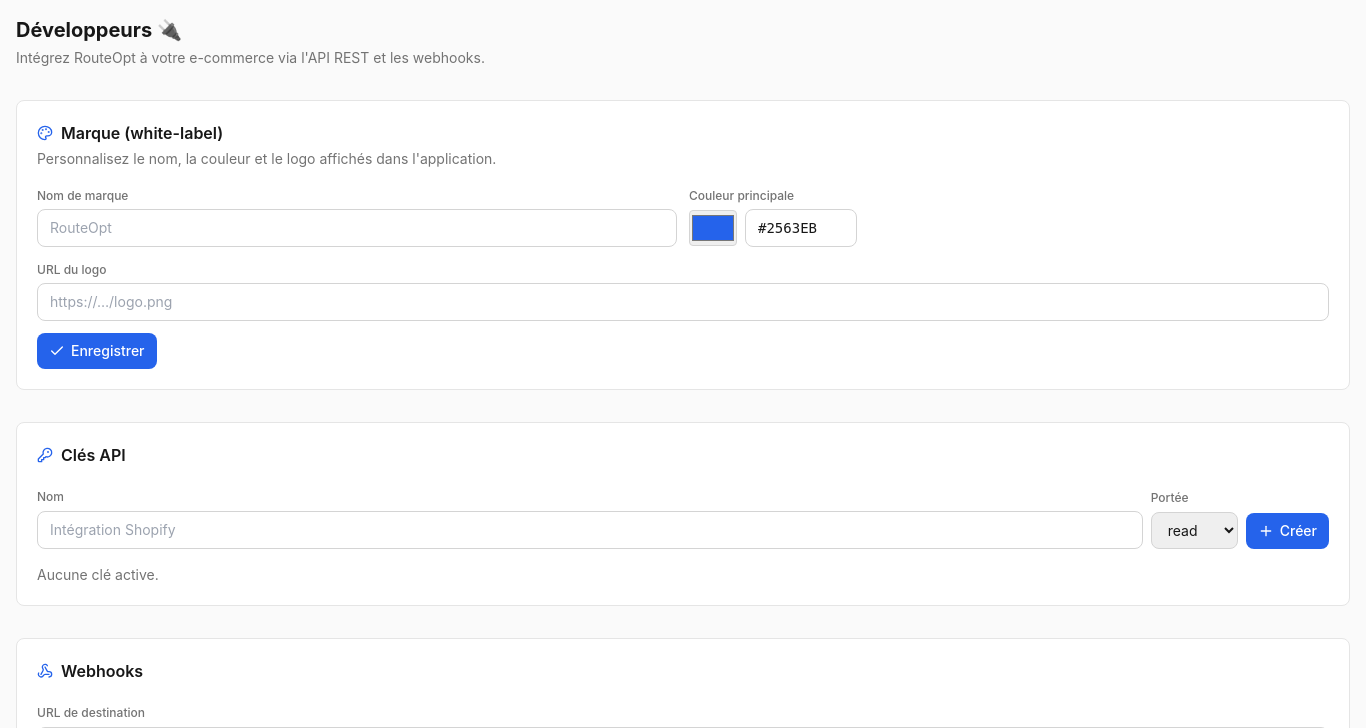
DevelopersPage › creates an API key and reveals the plaintext once
Check: the heading "Clés API" is shown, box [37, 445, 126, 465]
Type "Shopify" into the field with placeholder "Intégration Shopify" at (590, 530), box [37, 511, 1143, 549]
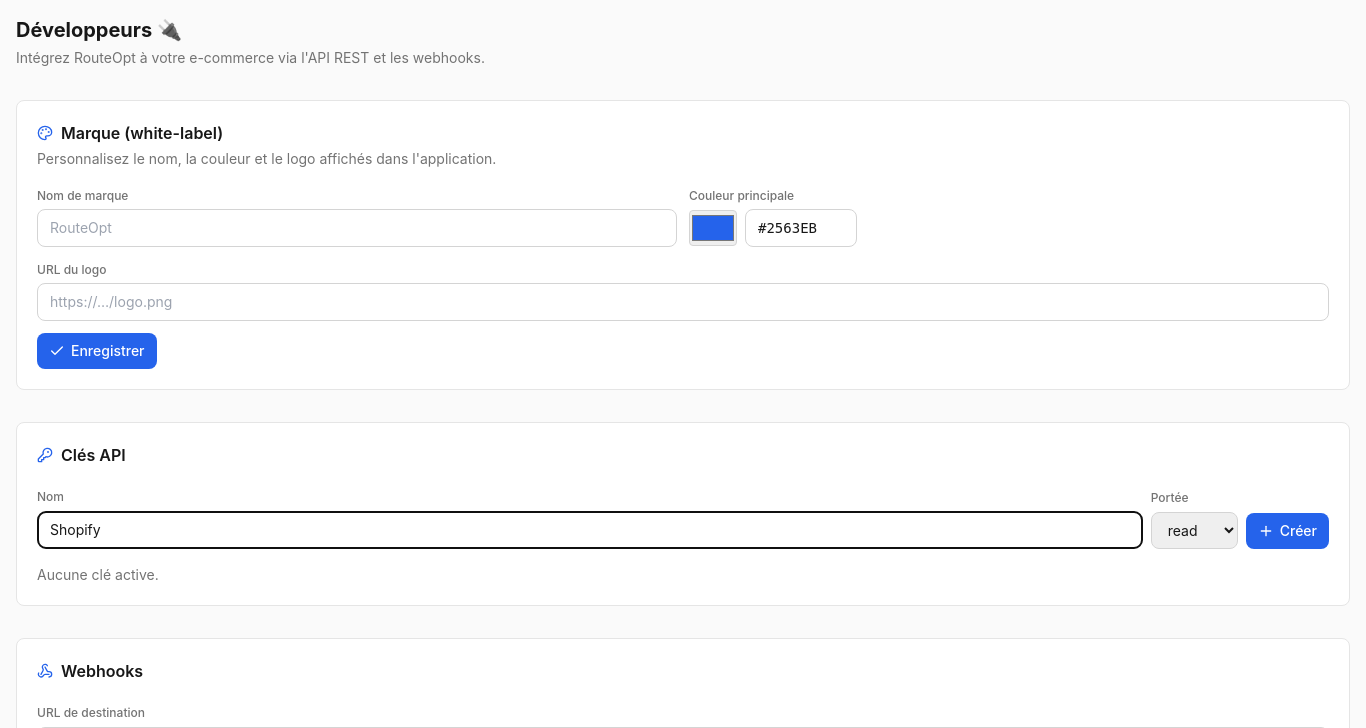
Click the button "Créer" at (1287, 531), box [1246, 513, 1329, 549]
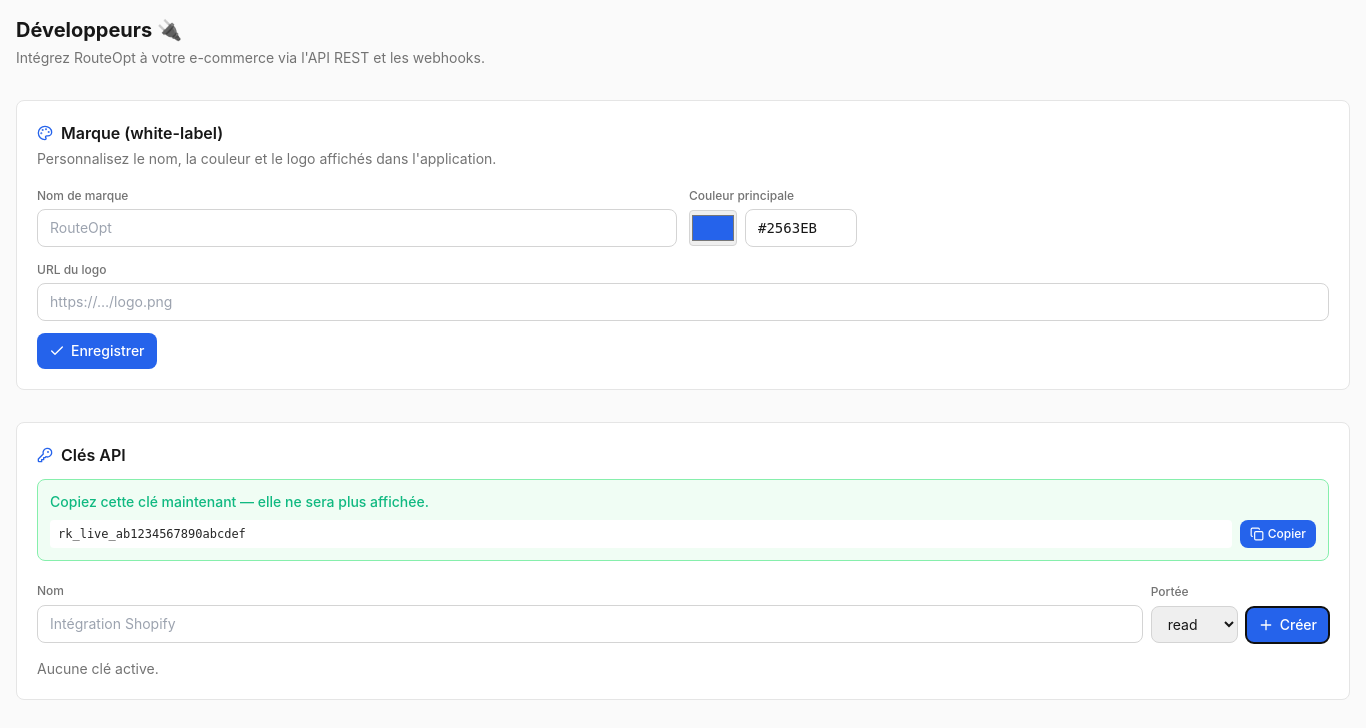
Check: the text "rk_live_ab1234567890abcdef" is shown, box [50, 520, 1232, 548]
